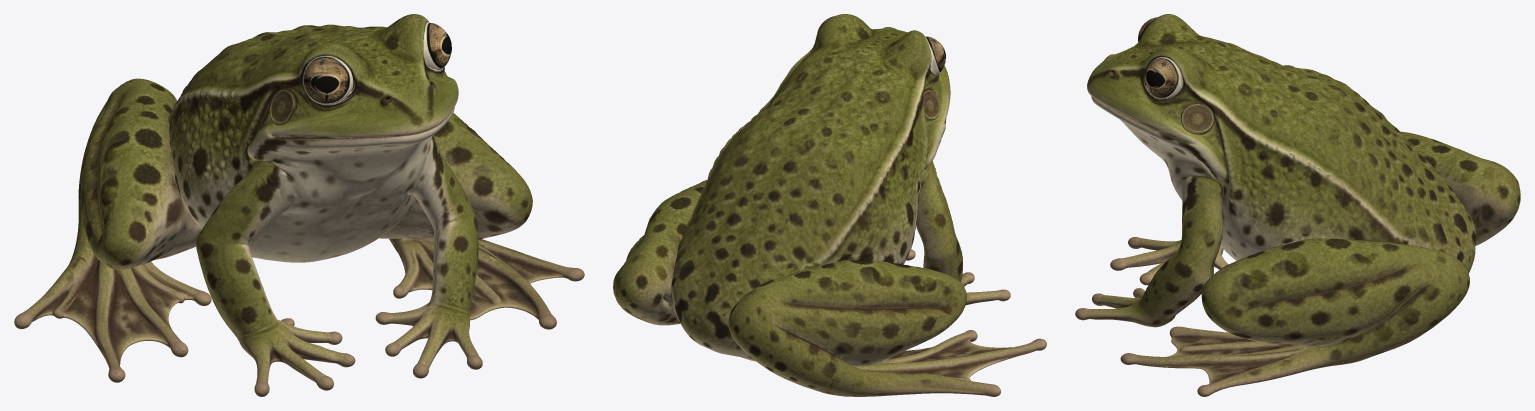
The model's file is frog.glb.
3 renders of one model, left to right at view 1: azimuth 30°, elevation 25°; view 2: azimuth 150°, elevation 25°; view 3: azimuth 270°, elevation 25°, orthographic. The views are drawn at different scales.
Visible parts, largest first — view 1: Mesh_0; view 2: Mesh_0; view 3: Mesh_0.
Part boxes in pixels (x1,y1,x2,y2): Mesh_0: (14,14,584,396); Mesh_0: (613,14,1046,396); Mesh_0: (1075,14,1520,396).
Bounding box in the file's own units: 0.0787 × 0.05 × 0.0739.
1 material, 1 textured.
